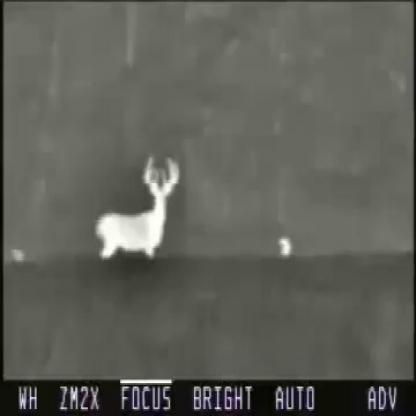rehkitze: (90, 155, 180, 263)
